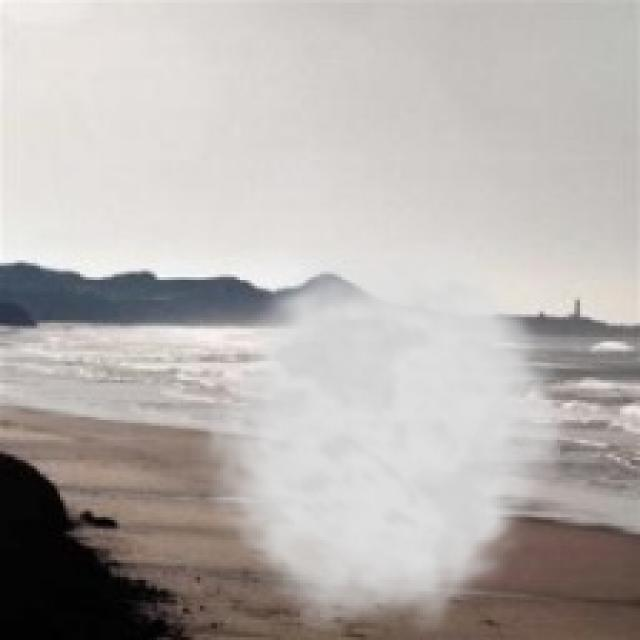smoke: (189, 226, 577, 637)
